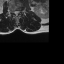CCS_normal: (16, 10, 17, 17)
LFS_severe_stenosis: (19, 9, 21, 13)
LLS_normal: (17, 9, 19, 15)
RFS_stenosis: (12, 9, 13, 14)
RLS_normal: (14, 9, 15, 15)
